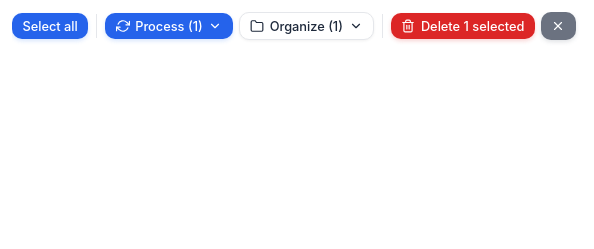
Scenario: GallerySelectionActions — actions that need a selection are disabled without one › leaves export disabled when the selected file has no transcript yet
Click the button titled "Add to collection or export transcripts for selected files" at [306, 26], box [239,12,374,40]
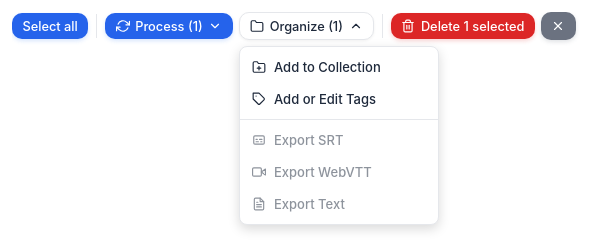
Check: the button "Export SRT" is disabled, box [240,124,438,156]
